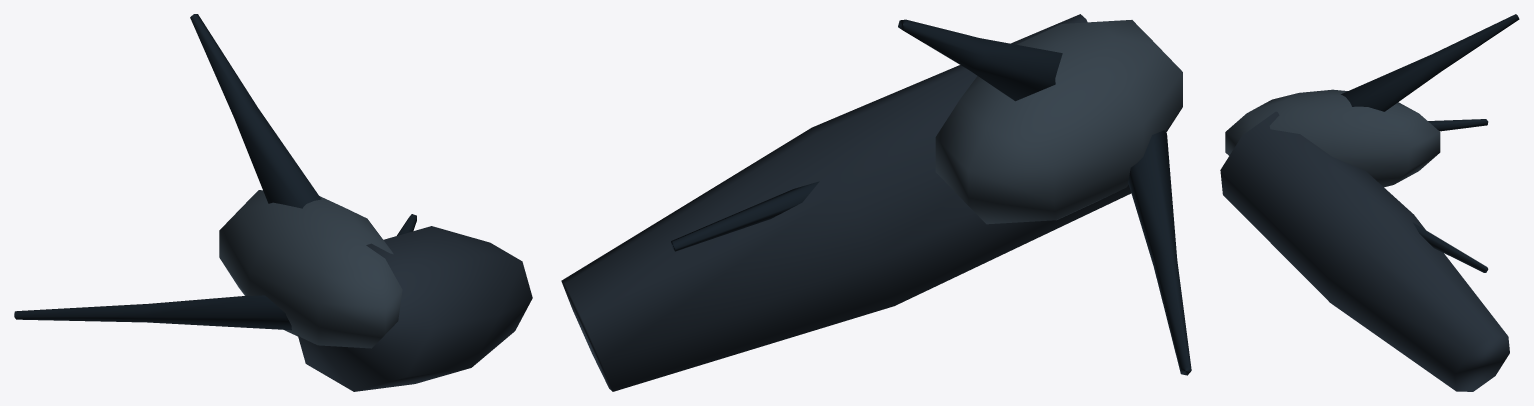
File: Tail_09.obj
3 views of the same model, side by side, from view 1: azimuth 30°, elevation 25°; view 2: azimuth 150°, elevation 25°; view 3: azimuth 270°, elevation 25° (orthographic). The views are drawn at different scales.
Visible parts, largest first — view 1: Tail_09; view 2: Tail_09; view 3: Tail_09.
Part boxes in pixels (<box>): Tail_09: <box>14,14,532,391</box>; Tail_09: <box>561,14,1191,391</box>; Tail_09: <box>1220,14,1519,391</box>.
Size of the model in its own units: 1.12 by 0.7904 by 0.7603.
